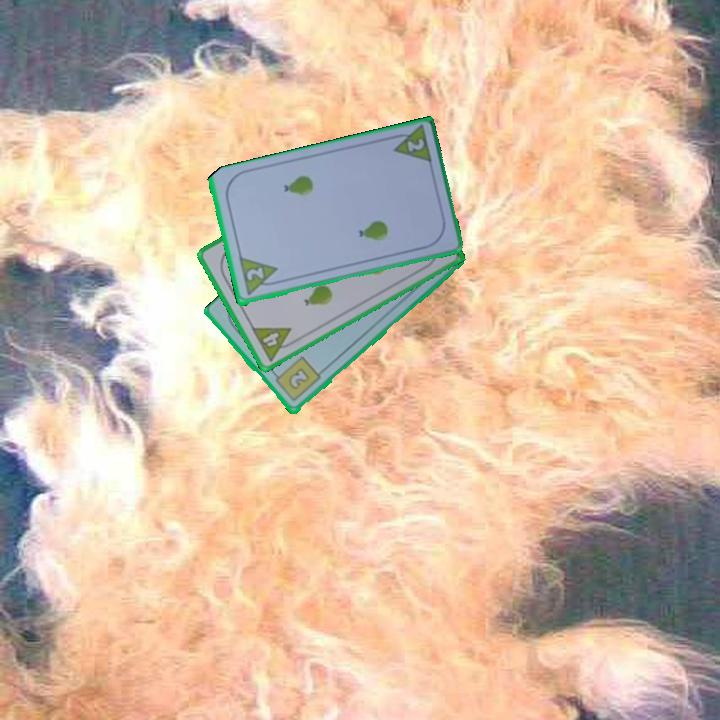2b: (269, 353, 323, 405)
2p: (386, 123, 435, 167), (242, 264, 266, 284)
4p: (248, 324, 300, 364)
